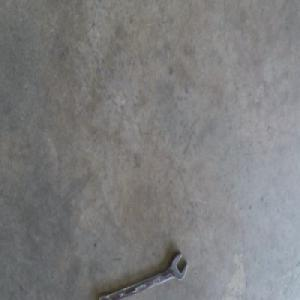Wrench: (103, 250, 186, 299)
